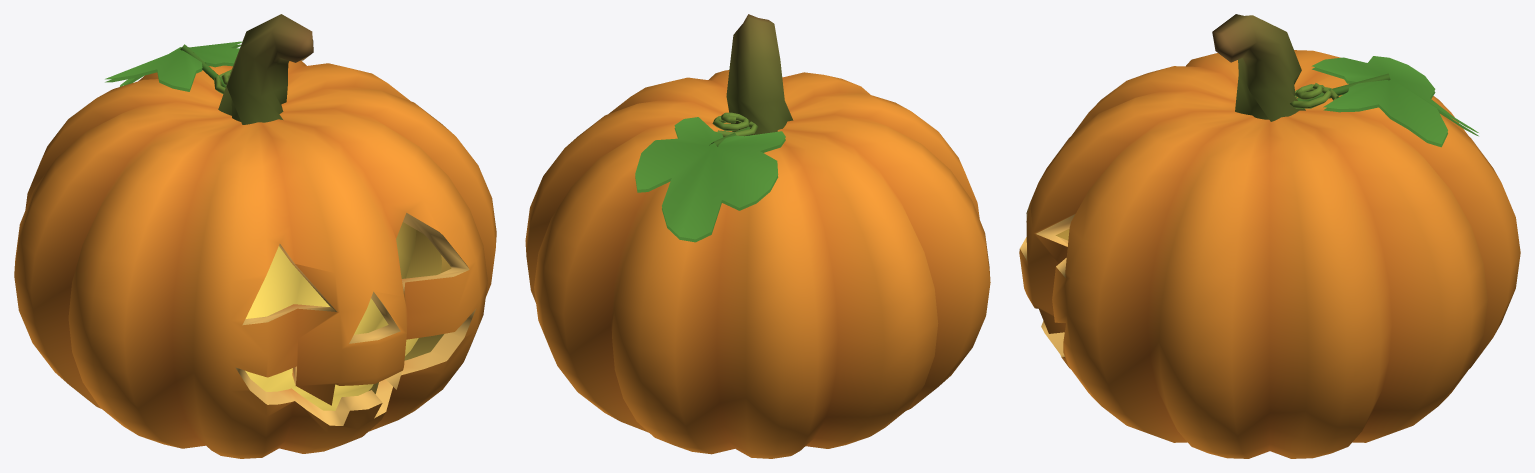
The model's file is jack_o_lantern.glb.
3 renders of one model, left to right at view 1: azimuth 30°, elevation 25°; view 2: azimuth 150°, elevation 25°; view 3: azimuth 270°, elevation 25°, orthographic. The views are drawn at different scales.
Parts seen in each view (by area): view 1: jack_o_lantern_main, jack_o_lantern_glow; view 2: jack_o_lantern_main; view 3: jack_o_lantern_main.
Part boxes in pixels (x1=…): jack_o_lantern_main: x1=14, y1=14, x2=496, y2=458; jack_o_lantern_glow: x1=245, y1=222, x2=451, y2=410; jack_o_lantern_main: x1=525, y1=14, x2=990, y2=458; jack_o_lantern_main: x1=1019, y1=14, x2=1520, y2=458.
Size of the model in its own units: 0.6937 by 0.6512 by 0.72.
